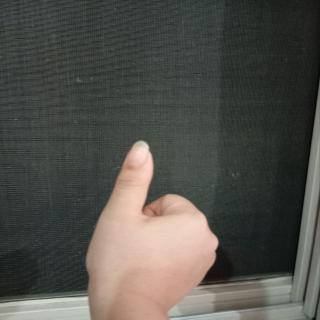ALIF: (76, 137, 221, 320)
